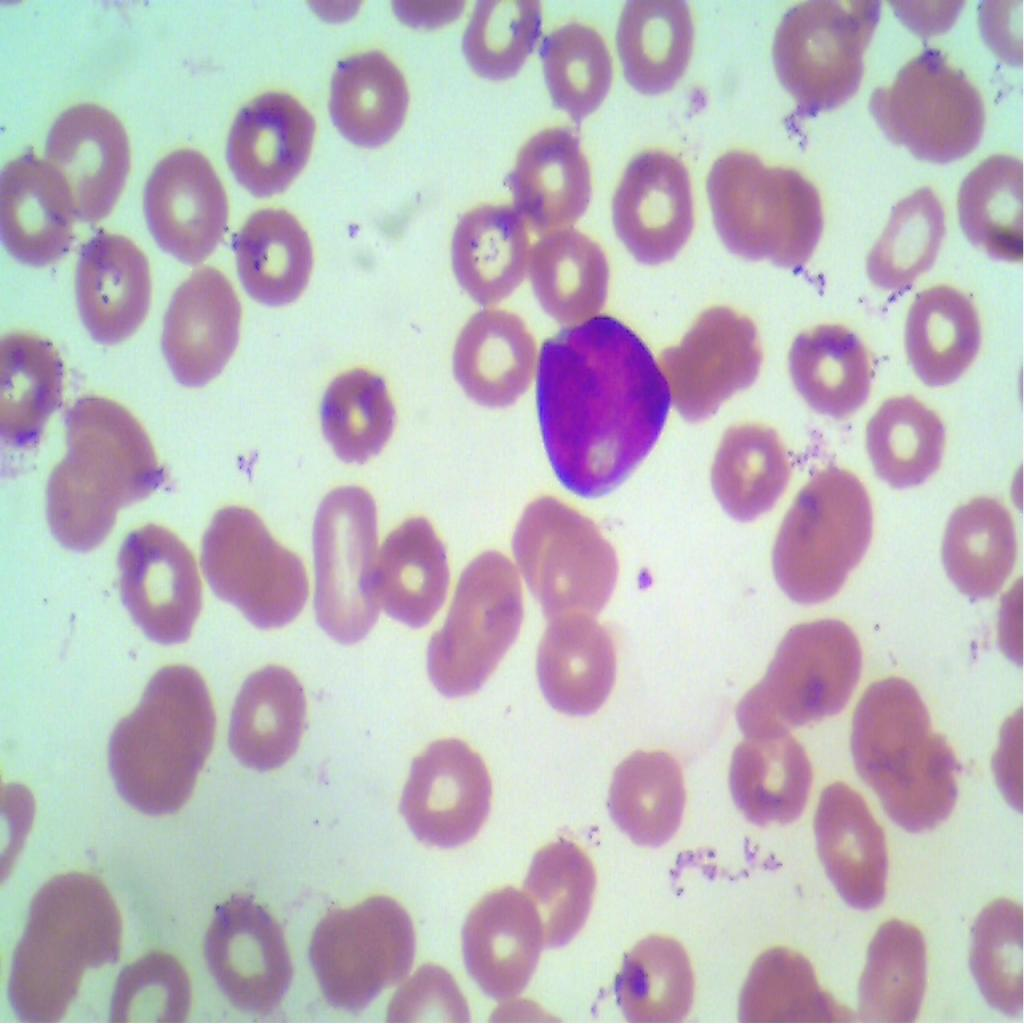Eritrosit: (650, 298, 769, 426), (744, 601, 861, 724), (426, 548, 522, 694), (298, 475, 378, 639), (204, 877, 299, 1015), (119, 512, 206, 655), (41, 97, 135, 227), (606, 141, 696, 274), (138, 145, 233, 268), (158, 260, 244, 392), (893, 41, 986, 161), (58, 394, 164, 497), (36, 438, 131, 552), (815, 775, 894, 912), (863, 183, 954, 301), (936, 485, 1023, 607), (400, 737, 494, 848), (894, 277, 990, 385), (874, 730, 966, 840), (726, 715, 811, 834), (101, 711, 195, 818), (853, 909, 941, 1023), (218, 84, 313, 189), (0, 148, 78, 274), (31, 870, 128, 971), (533, 605, 616, 722), (764, 0, 861, 100), (226, 204, 315, 311), (864, 380, 950, 490), (71, 232, 156, 342), (604, 918, 693, 1023), (322, 42, 410, 148), (539, 12, 618, 128), (310, 361, 396, 467), (444, 191, 531, 294), (450, 301, 536, 405), (790, 452, 873, 559), (843, 666, 928, 770), (702, 418, 786, 522), (788, 318, 874, 417), (521, 831, 593, 948), (460, 888, 538, 994), (956, 141, 1023, 263), (611, 0, 695, 97), (773, 504, 849, 610), (521, 238, 611, 324), (703, 148, 778, 251), (0, 327, 66, 444), (369, 518, 451, 612), (346, 882, 418, 989), (230, 668, 313, 760), (139, 669, 216, 767), (610, 751, 686, 850), (518, 122, 594, 220), (8, 931, 86, 1023), (748, 181, 826, 269), (964, 897, 1023, 1012), (544, 536, 618, 627), (315, 905, 379, 1008), (106, 945, 190, 1023), (458, 0, 540, 79), (241, 547, 309, 635), (508, 486, 570, 582), (204, 498, 266, 592)
Limfoblast: (534, 312, 672, 498)
Platelet: (631, 562, 664, 607)
